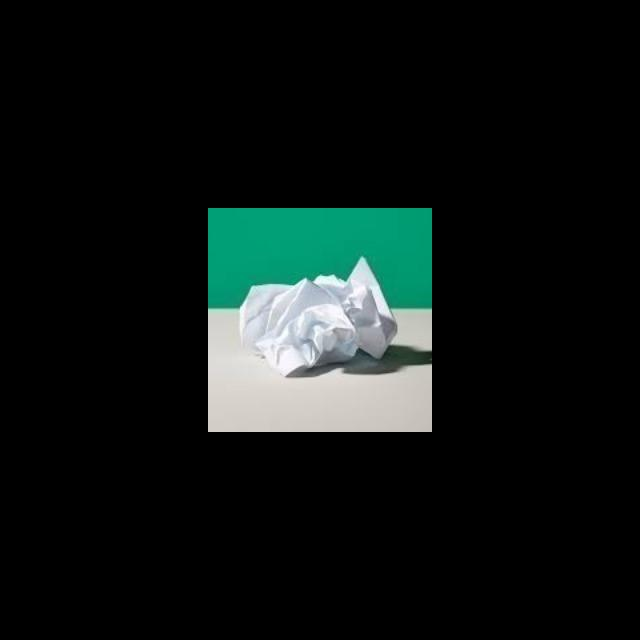paper: (218, 248, 407, 395)
